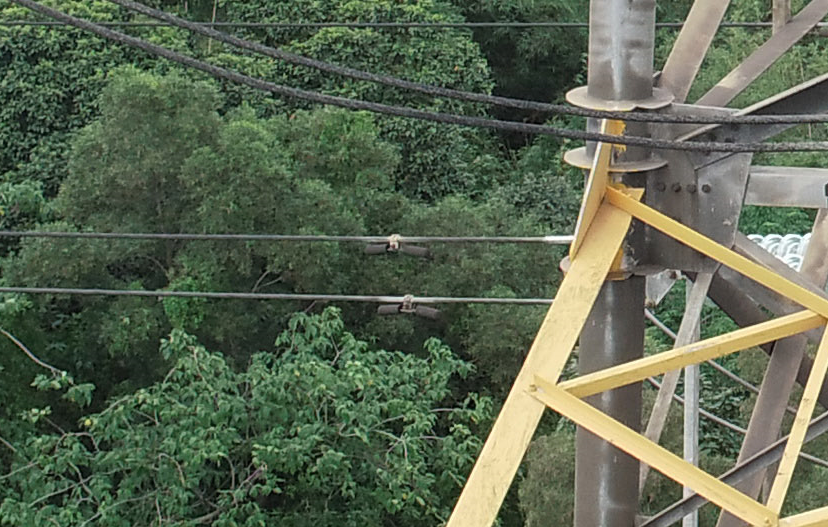damper: (375, 292, 442, 322), (361, 233, 430, 260)
